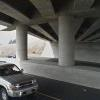Bridge: (5, 4, 92, 55)
